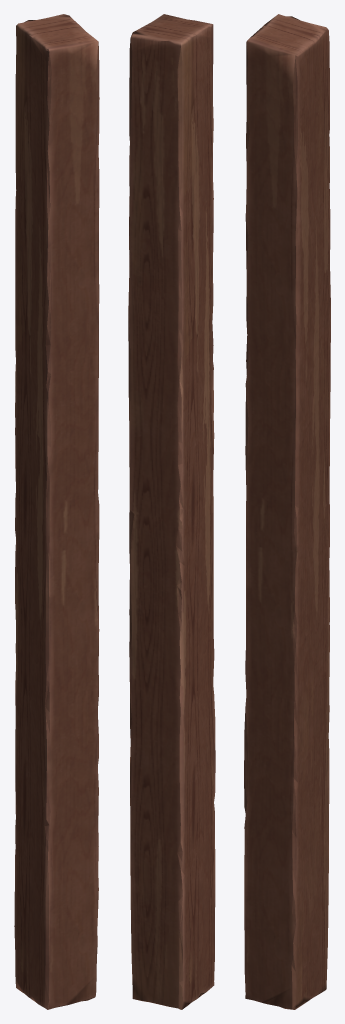
File: SM_Beams_05.fbx
The picture shows the model from 3 angles, left to right: view 1: azimuth 30°, elevation 25°; view 2: azimuth 150°, elevation 25°; view 3: azimuth 330°, elevation 25°; orthographic projection.
Visible parts, largest first — view 1: SM_Beams_05_LOD0; view 2: SM_Beams_05_LOD0; view 3: SM_Beams_05_LOD0.
Boxes of the visible parts, <box> form: SM_Beams_05_LOD0: <box>14,14,99,1009</box>; SM_Beams_05_LOD0: <box>128,14,215,1009</box>; SM_Beams_05_LOD0: <box>244,14,330,1009</box>.
Bounding box in the file's own units: 18.08 × 20 × 304.
Materials: 1 (1 with a texture image).
